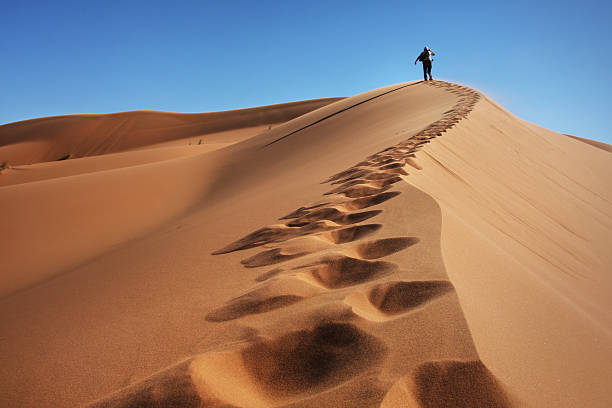human_footprint: (176, 89, 469, 405), (216, 86, 477, 267), (190, 320, 385, 406), (326, 109, 465, 193), (380, 359, 512, 407), (241, 224, 381, 267), (206, 278, 320, 321), (345, 280, 453, 320), (296, 254, 397, 288), (281, 191, 400, 219), (286, 207, 380, 226), (325, 173, 401, 194)
